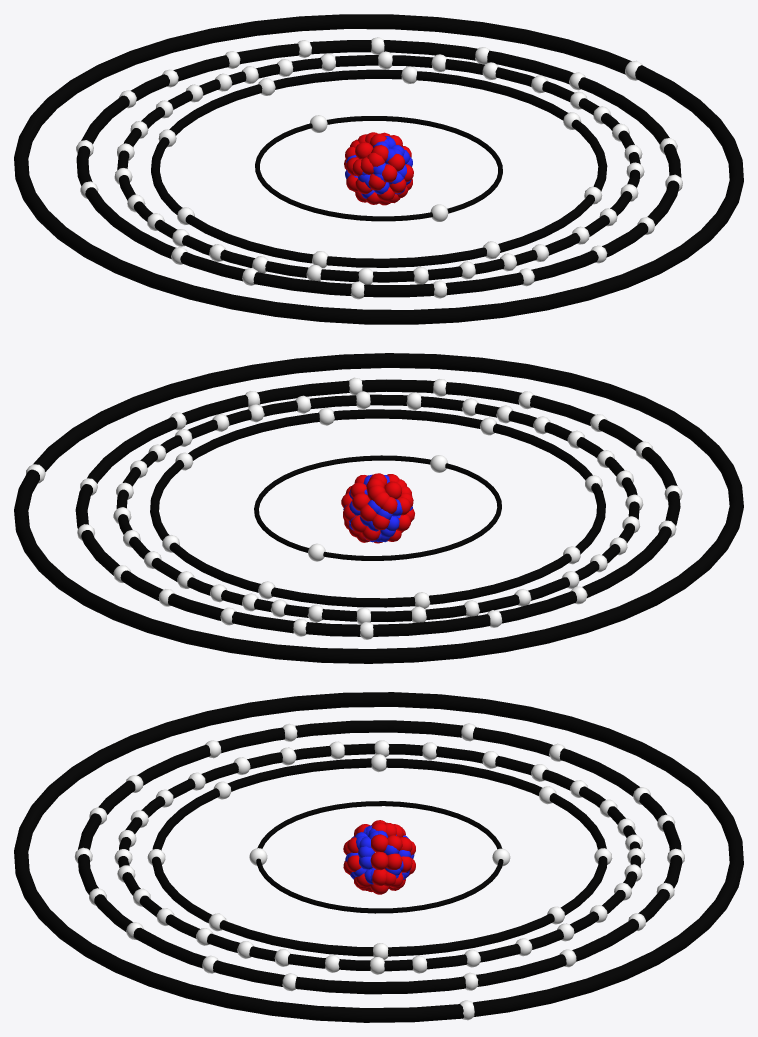
File: 49 Indio.fbx
3 views of the same model, one above another, from view 1: azimuth 30°, elevation 25°; view 2: azimuth 150°, elevation 25°; view 3: azimuth 270°, elevation 25° (orthographic).
Parts seen in each view (by area): view 1: Orbita.005, Orbita.004, Orbita.003, Orbita.002, Electron.111, Orbita.001; view 2: Orbita.005, Orbita.004, Orbita.003, Orbita.002, Electron.111, Orbita.001; view 3: Orbita.005, Orbita.004, Orbita.003, Orbita.002, Electron.111, Orbita.001.
Part boxes in pixels (box(x1,y1,x2,y2)): Orbita.005: box(14, 14, 743, 324); Orbita.004: box(76, 40, 681, 297); Orbita.003: box(117, 55, 640, 282); Orbita.002: box(151, 69, 607, 267); Electron.111: box(344, 132, 413, 205); Orbita.001: box(255, 116, 502, 221); Orbita.005: box(14, 353, 743, 663); Orbita.004: box(75, 379, 680, 636); Orbita.003: box(116, 394, 639, 621); Orbita.002: box(150, 409, 605, 607); Electron.111: box(341, 473, 414, 543); Orbita.001: box(254, 455, 501, 560); Orbita.005: box(14, 692, 743, 1022); Orbita.004: box(78, 720, 682, 994); Orbita.003: box(118, 743, 640, 971); Orbita.002: box(152, 758, 607, 956); Electron.111: box(343, 820, 415, 894); Orbita.001: box(256, 801, 503, 913).
Bounding box in the file's own units: 27.46 × 27.46 × 2.85.
